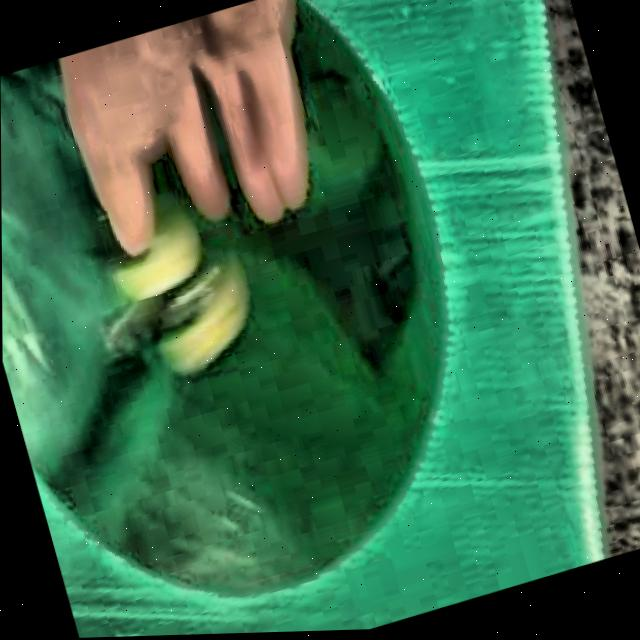glass: (104, 211, 249, 372)
